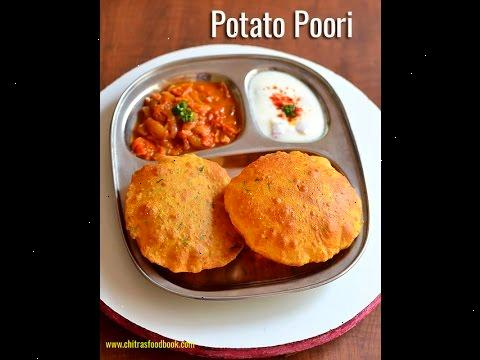puri: (135, 163, 370, 275)
